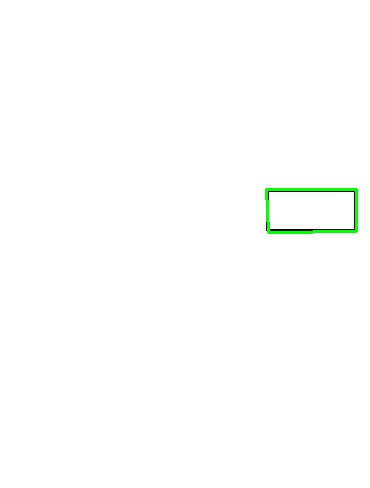line_segment: (265, 188, 358, 233)
